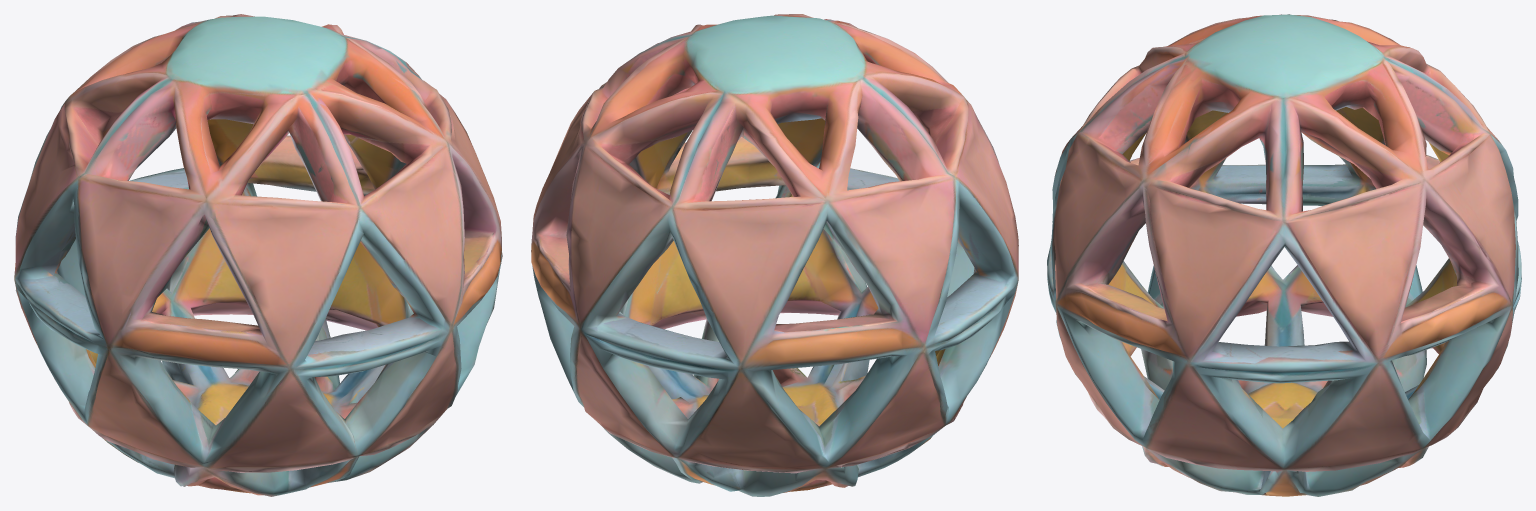
Rendered from Geometric_Harmony_Bal_0513181426_texture.glb.
3 renders of one model, left to right at view 1: azimuth 30°, elevation 25°; view 2: azimuth 150°, elevation 25°; view 3: azimuth 270°, elevation 25°, orthographic.
Size of the model in its own units: 2.01 by 2 by 2.
1 material, 1 textured.
